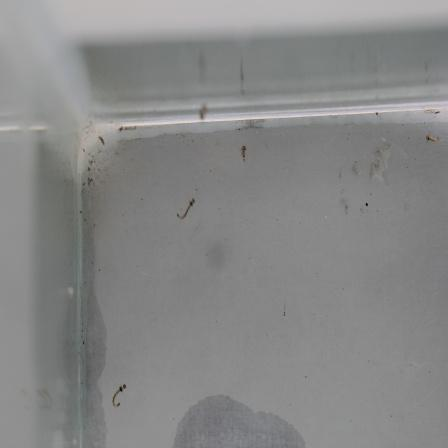Jentik-Nyamuk: (173, 193, 199, 228), (109, 379, 131, 411)
